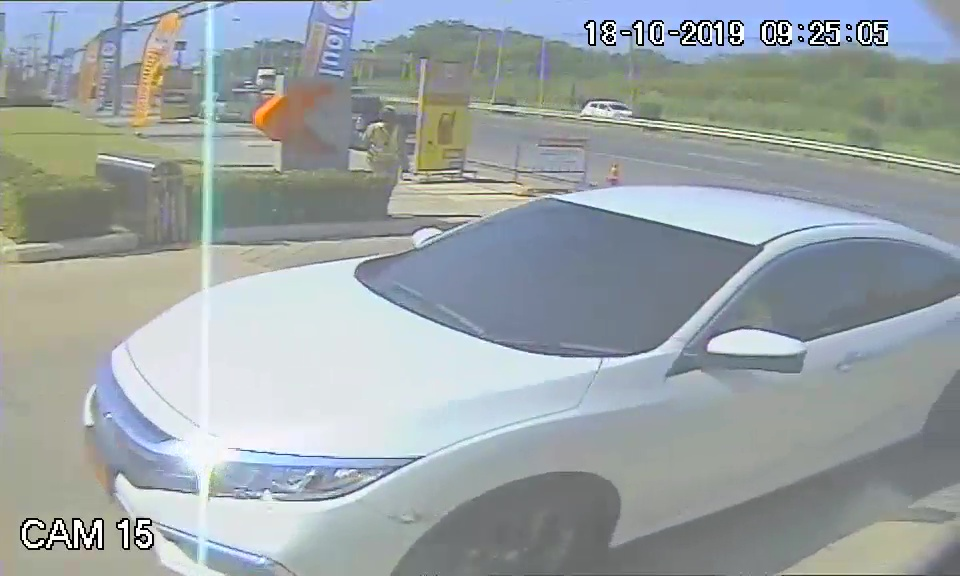sedan: (79, 185, 823, 576)
